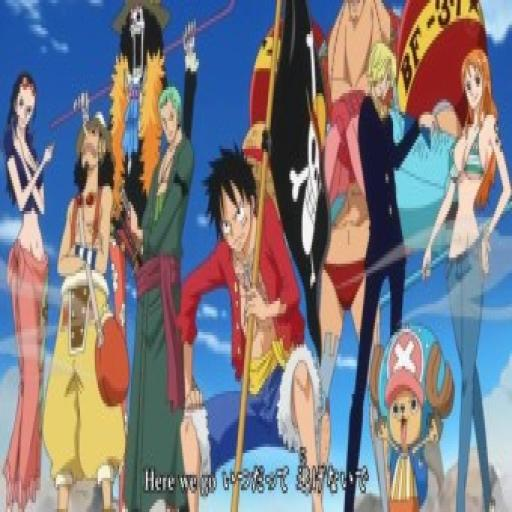Luffy: (202, 142, 266, 254)
Nami: (462, 53, 488, 118)
NicoRobin: (9, 72, 42, 140)
Usopp: (69, 102, 113, 195)
Zoro: (157, 62, 189, 154)
sanji: (366, 40, 399, 108)
